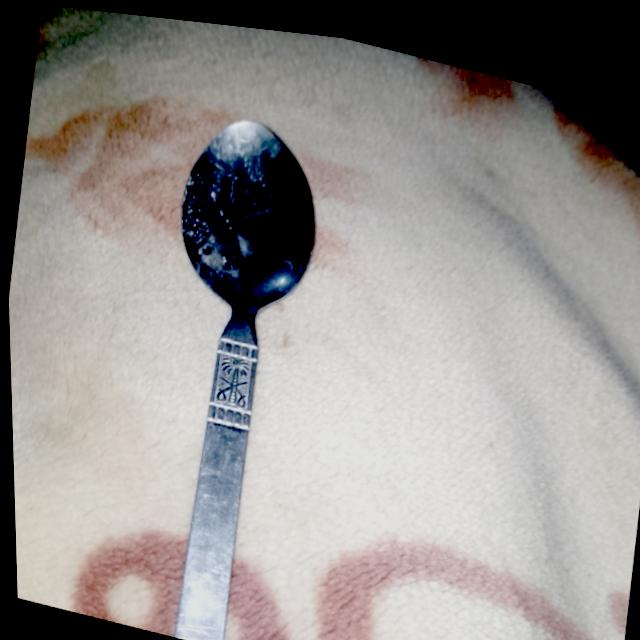Spoon: (174, 121, 315, 639)
